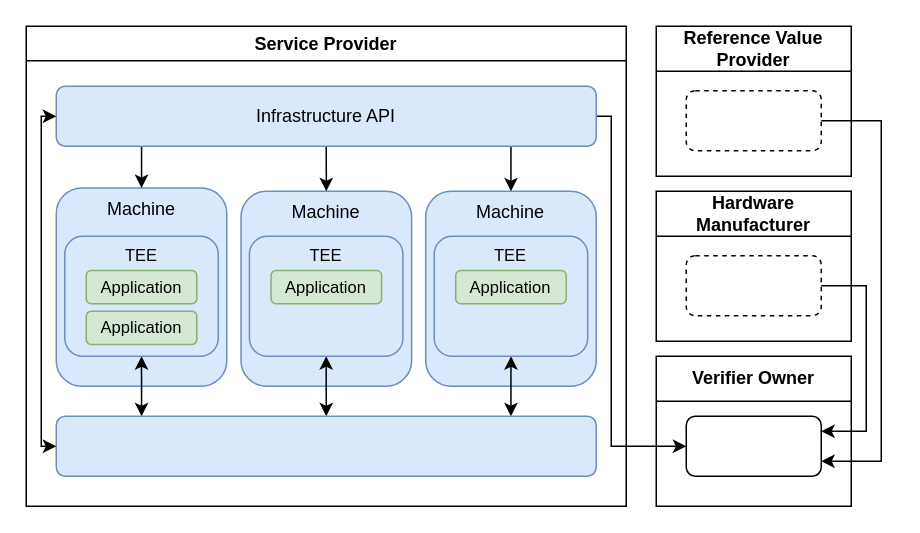
The diagram is 920 pixels wide and 533 high, and some of its shapes have lost their labels. Here are the shapes that lost their labels. From the top down, the centre of each, then its label:
At (753,120): "Reference Values".
At (753,285): "Endorsements".
At (325,445): "TEE Platform".
At (753,445): "Verifier".
